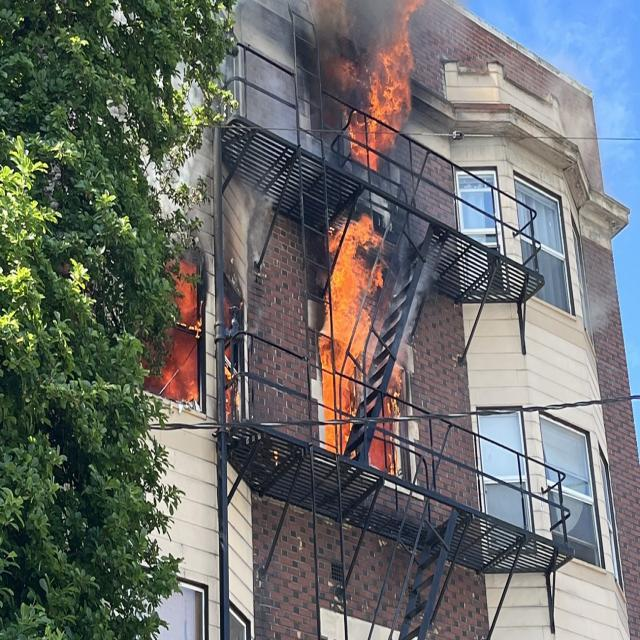Fire: (304, 196, 390, 444), (346, 31, 419, 158), (164, 214, 202, 404)
